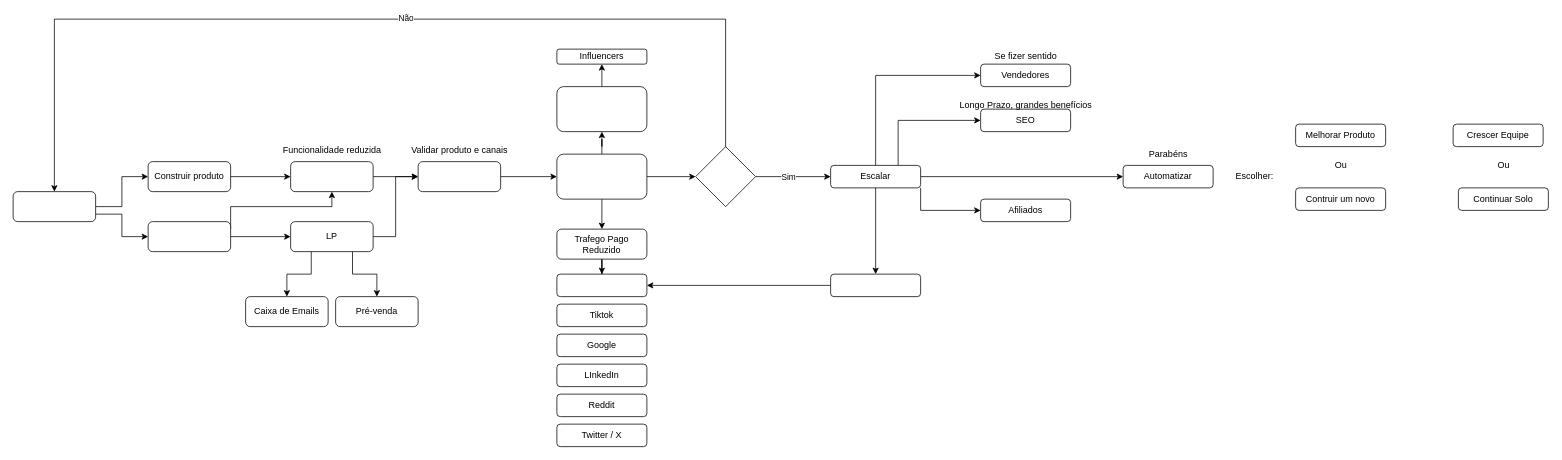
Some shapes in this 1562 by 460 pixel diagram are drawn without their labels. Each missing label, with the box of its shape:
Divulgar: Foruns comunidades do nicho: (556, 153, 647, 199)
Identificar problema: (12, 191, 96, 222)
Lancamento: (417, 161, 501, 192)
Meta: (556, 273, 647, 297)
MVP: (290, 161, 373, 192)
Post Orgânicos (Virais - UGC): (556, 86, 647, 132)
Produto Validado?: (695, 146, 756, 207)
Tráfego Pago Elaborado: (830, 273, 921, 297)
Validar ideia: (147, 221, 231, 252)
